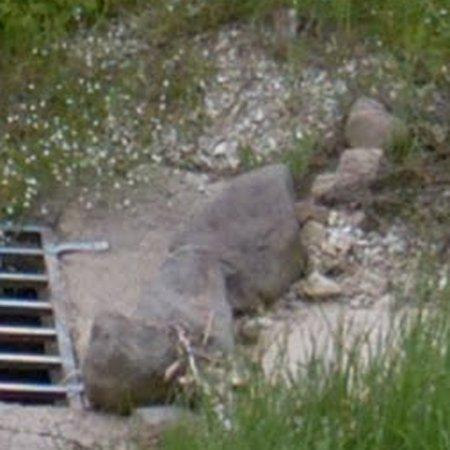stairs: (0, 226, 109, 402)
